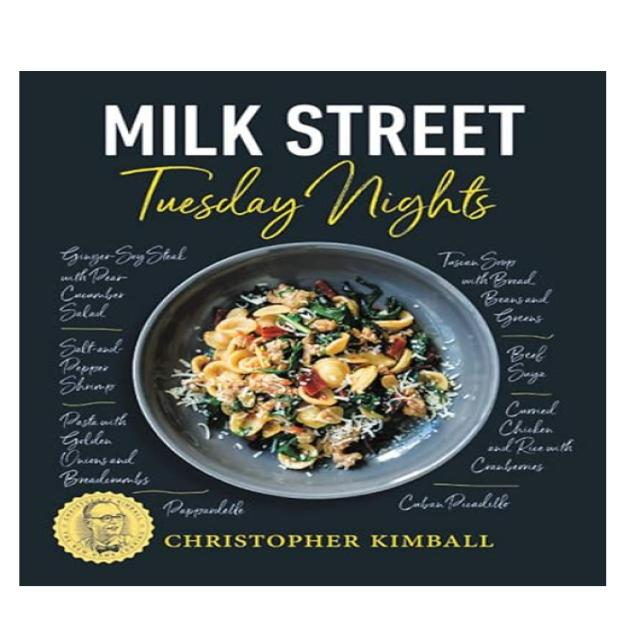titles-or-authors: (94, 93, 536, 245), (159, 525, 510, 556)
